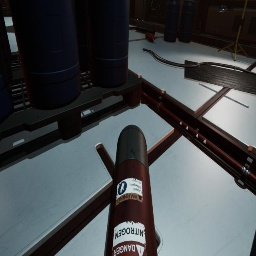FireExtinguisher ]: (145, 32, 157, 42)
NitrogenTank ,: (105, 124, 158, 256)
